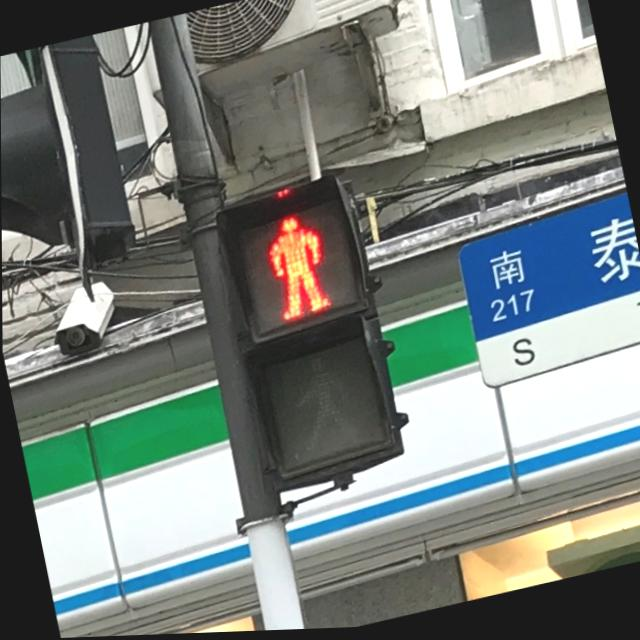red_light: (255, 207, 338, 331)
